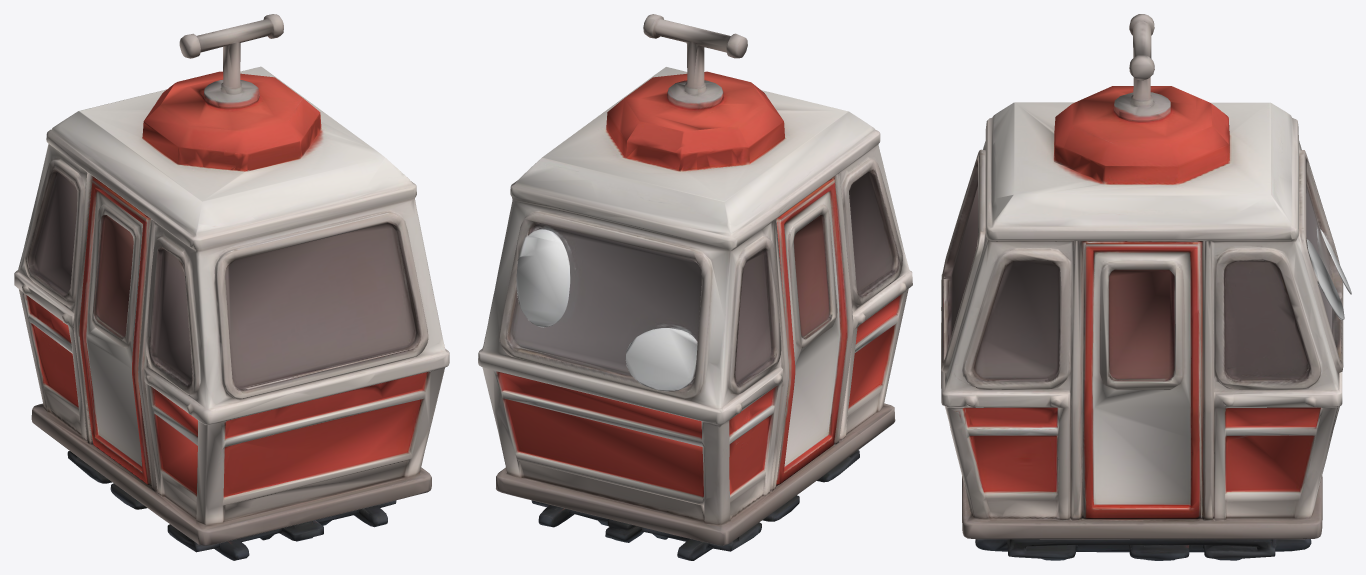
The model's file is gondola.glb.
3 renders of one model, left to right at view 1: azimuth 30°, elevation 25°; view 2: azimuth 150°, elevation 25°; view 3: azimuth 270°, elevation 25°, orthographic. The views are drawn at different scales.
Visible parts, largest first — view 1: node_0; view 2: node_0; view 3: node_0.
Part boxes in pixels (x1,y1,x2,y2): node_0: [14, 14, 449, 560]; node_0: [478, 14, 912, 560]; node_0: [941, 14, 1351, 560].
Bounding box in the file's own units: 0.5639 × 0.9843 × 0.7658.
Materials: 1 (1 with a texture image).
